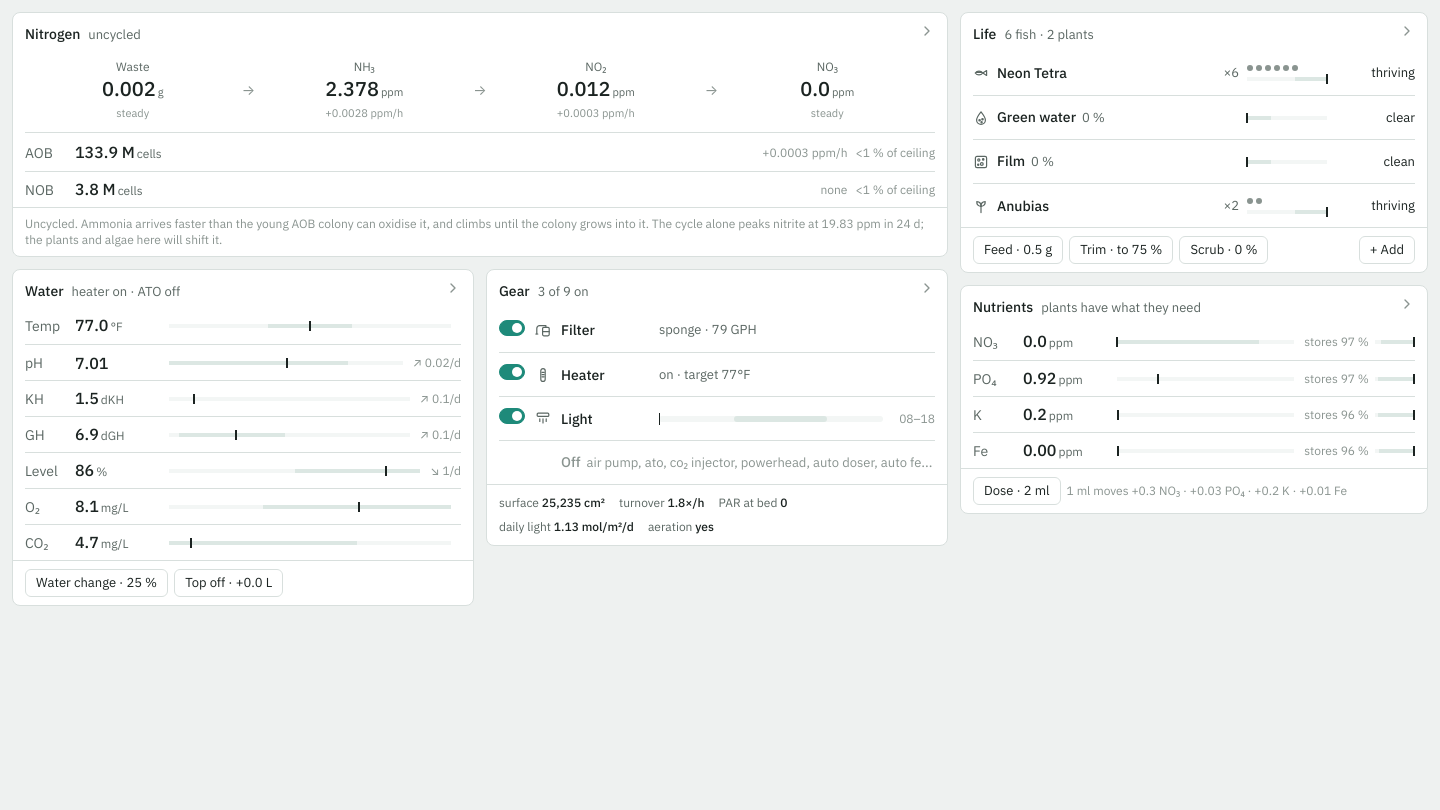
Test: OverviewSection › opens the day’s light on the Gear widget in the reading drawer
Click the button "daily light 1.13 mol/m²/d" at x=566, y=527, box [495, 517, 638, 537]
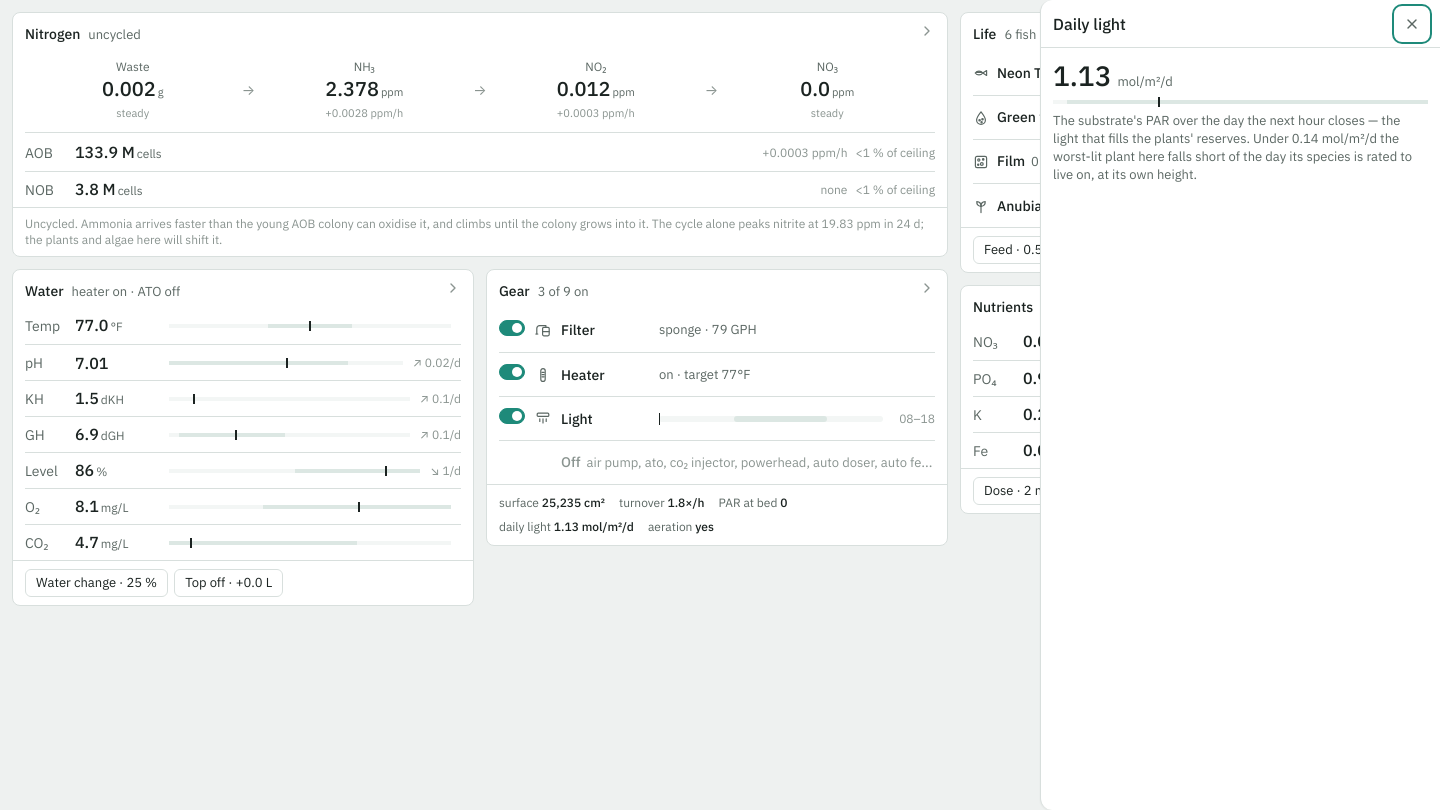
Check: the dialog "Daily light" is shown, box [1040, 0, 1439, 809]
